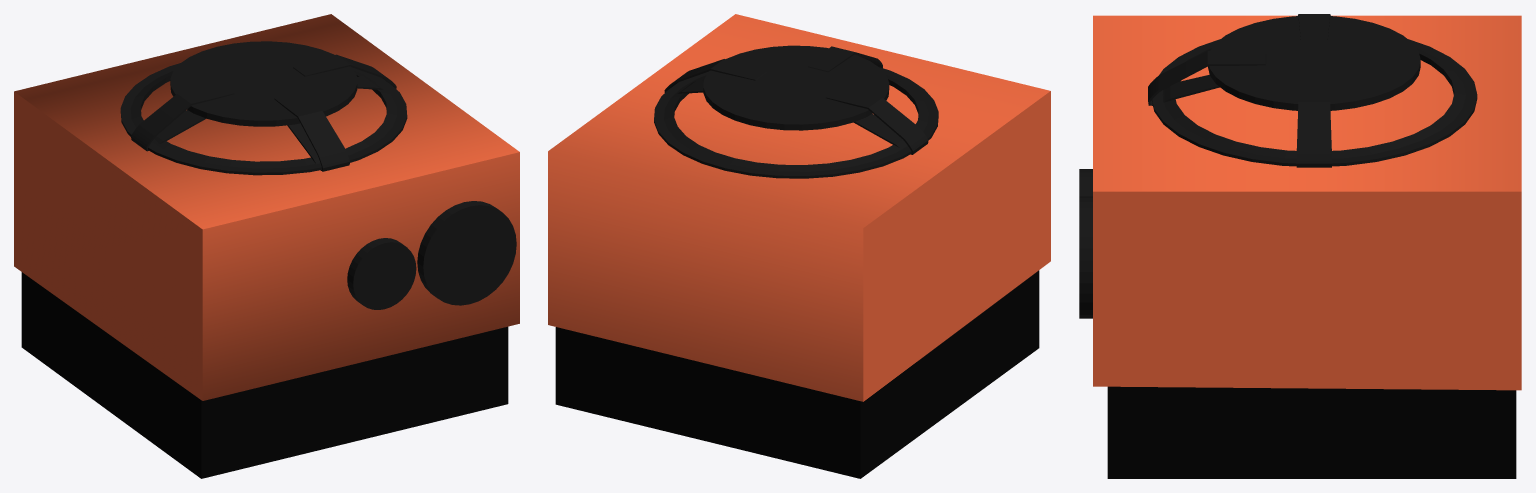
File: stove.fbx
The picture shows the model from 3 angles, left to right: view 1: azimuth 30°, elevation 25°; view 2: azimuth 150°, elevation 25°; view 3: azimuth 270°, elevation 25°; orthographic projection. The views are drawn at different scales.
Visible parts, largest first — view 1: Countertop, CounterDown, button2, firePlace, grid, Plane.001, Plane.002, Plane; view 2: Countertop, CounterDown, firePlace, grid, Plane.002, Plane, Plane.001; view 3: CounterDown, Countertop, firePlace, grid, Plane, Plane.001, button2, Plane.002.
Part boxes in pixels (x1,y1,x2,y2): Countertop: [14, 14, 519, 400]; CounterDown: [14, 91, 508, 478]; button2: [347, 201, 516, 309]; firePlace: [170, 41, 357, 126]; grid: [120, 63, 407, 175]; Plane.001: [274, 93, 349, 171]; Plane.002: [131, 85, 234, 151]; Plane: [293, 54, 396, 89]; Countertop: [548, 14, 1050, 401]; CounterDown: [555, 91, 1050, 478]; firePlace: [703, 45, 889, 130]; grid: [654, 67, 938, 178]; Plane.002: [826, 89, 928, 154]; Plane: [664, 59, 767, 93]; Plane.001: [808, 46, 882, 72]; CounterDown: [1093, 191, 1521, 478]; Countertop: [1093, 15, 1521, 191]; firePlace: [1208, 16, 1420, 110]; grid: [1151, 39, 1477, 166]; Plane: [1296, 78, 1331, 167]; Plane.001: [1148, 51, 1266, 105]; button2: [1079, 169, 1092, 318]; Plane.002: [1298, 14, 1330, 40].
Bounding box in the file's own units: 589 × 525 × 626.
